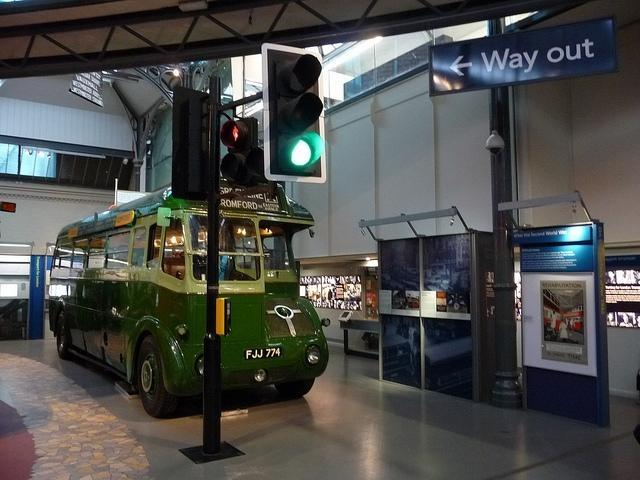bus: (48, 184, 328, 412)
